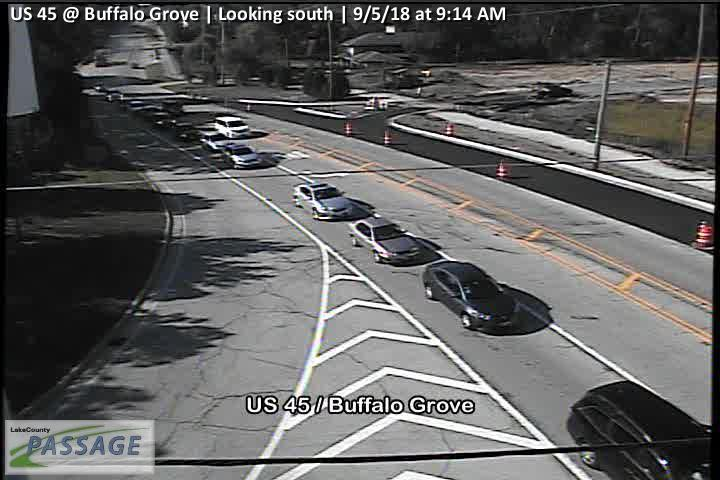SUV: (566, 378, 720, 480)
Sedan: (423, 260, 519, 330), (349, 214, 421, 265), (292, 180, 353, 220), (219, 141, 263, 168), (196, 125, 234, 151), (213, 114, 250, 138), (172, 120, 205, 141), (146, 110, 176, 130)
